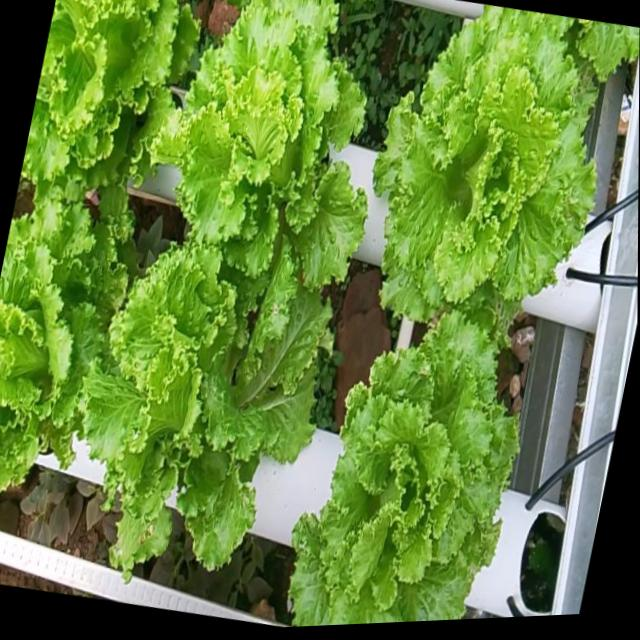Mature: (69, 234, 327, 574), (368, 3, 636, 312), (286, 299, 520, 627), (151, 0, 362, 297), (19, 0, 188, 200), (0, 203, 116, 491)
